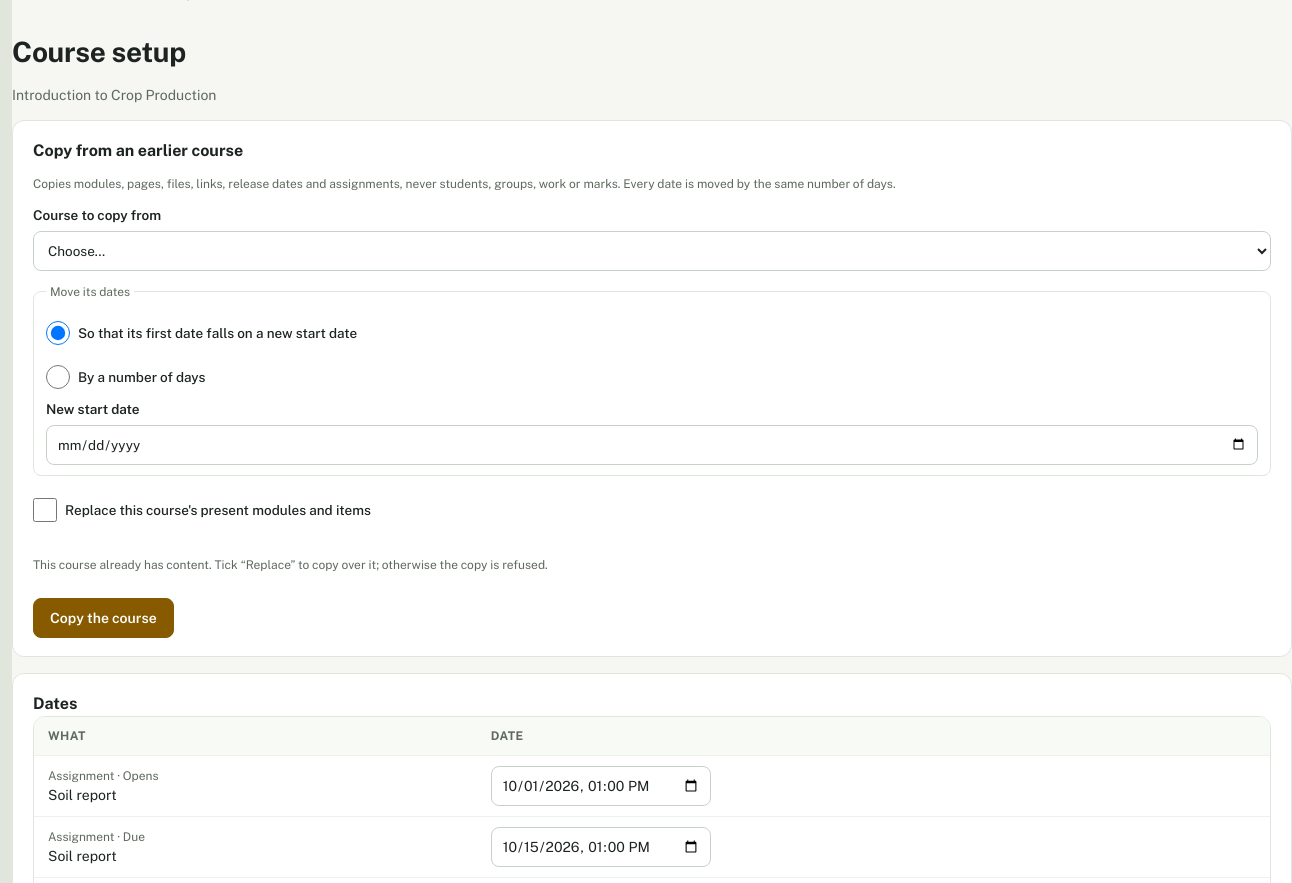
Test: course setup for teaching staff (items 2.17, 2.18 and 2.20) › lists every date, saves the changed ones together, and keeps them when the save is refused
The width and height of the screenshot is (1292, 883).
Replace the text in the field named "Due: Soil report" with "2026-10-20T09:00" at (601, 847), box [491,827,711,867]
(page scrolled)
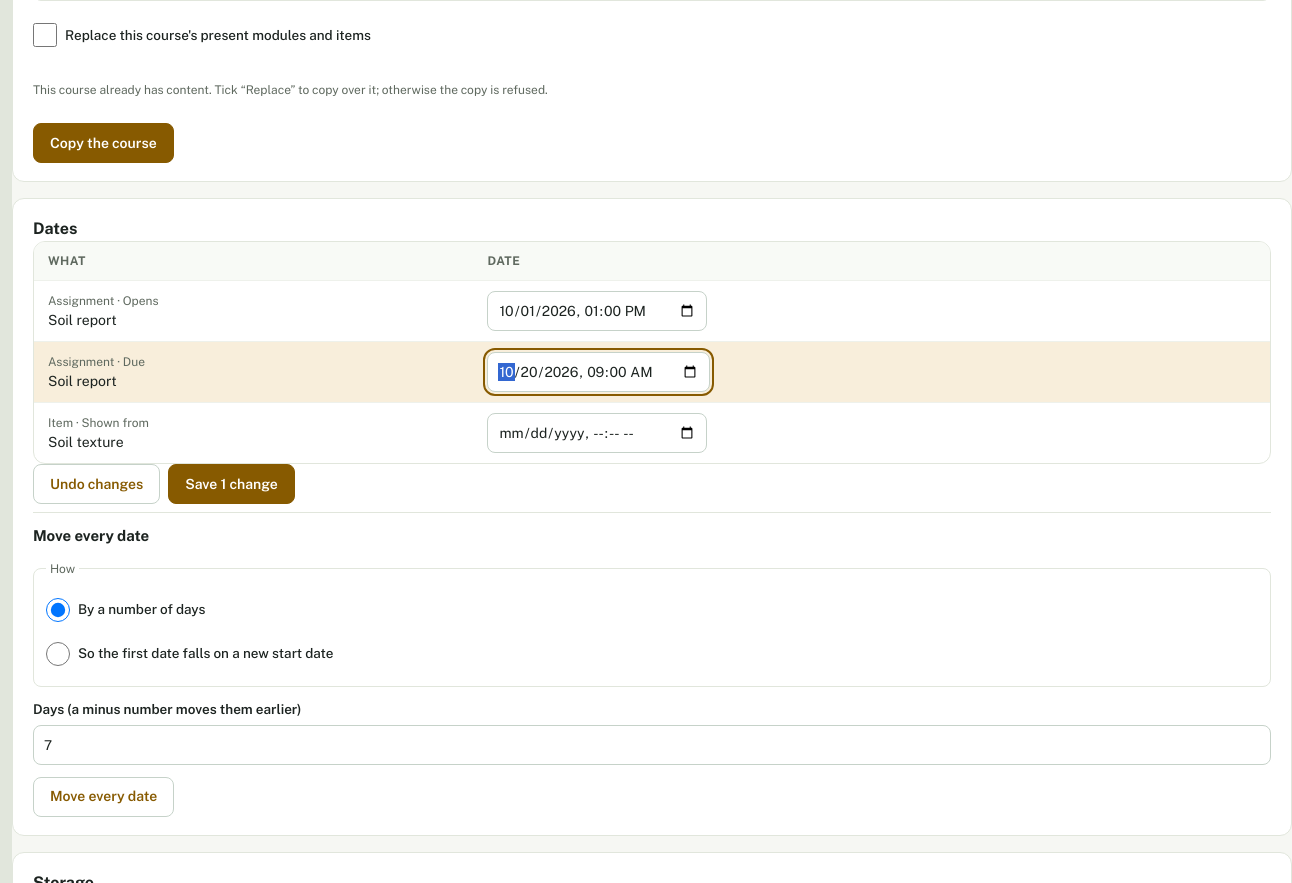
Type "2026-10-05T08:00" into the field named "Shown from: Soil texture" at (597, 433), box [487,413,707,453]
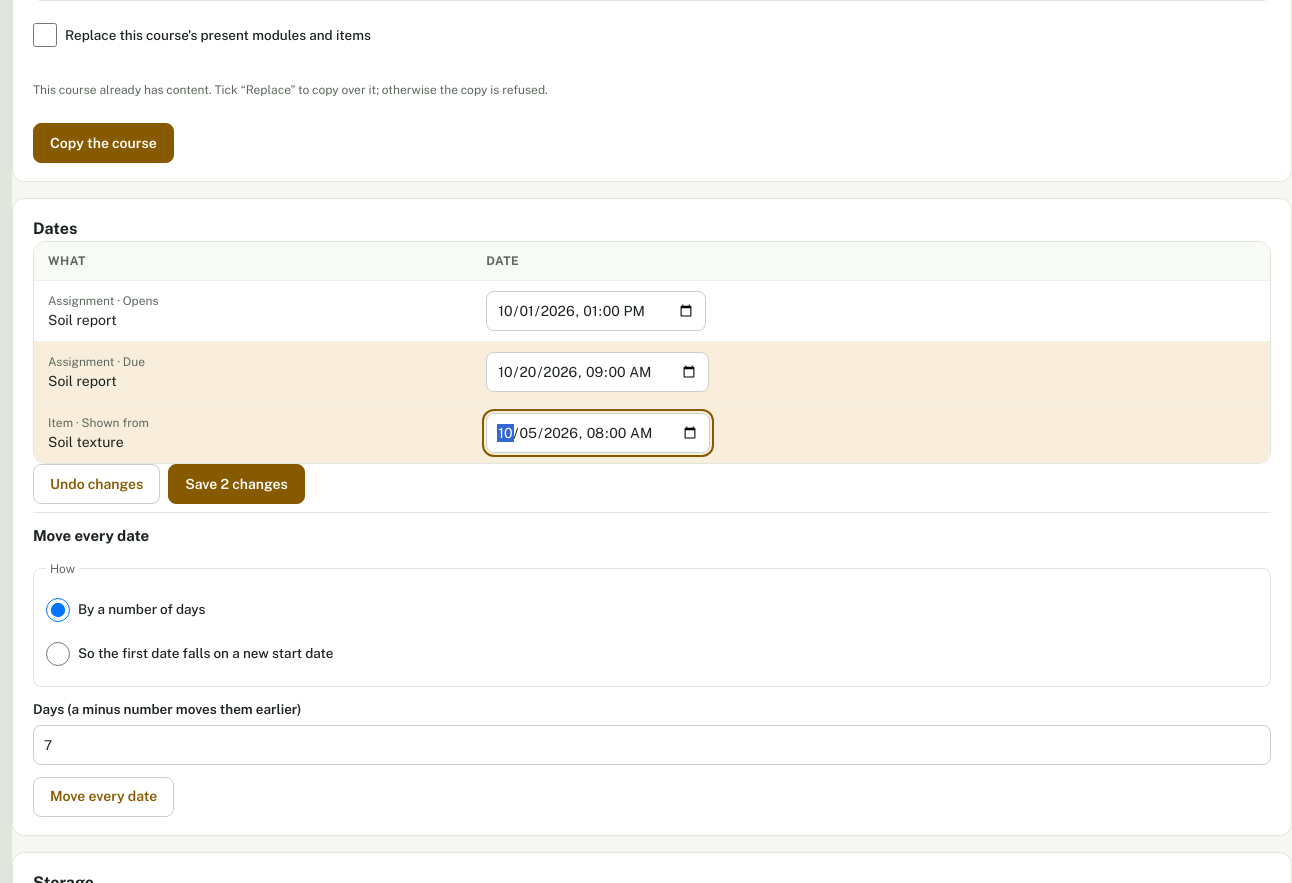
Click the button "Save 2 changes" at (236, 484), box [168,464,305,504]
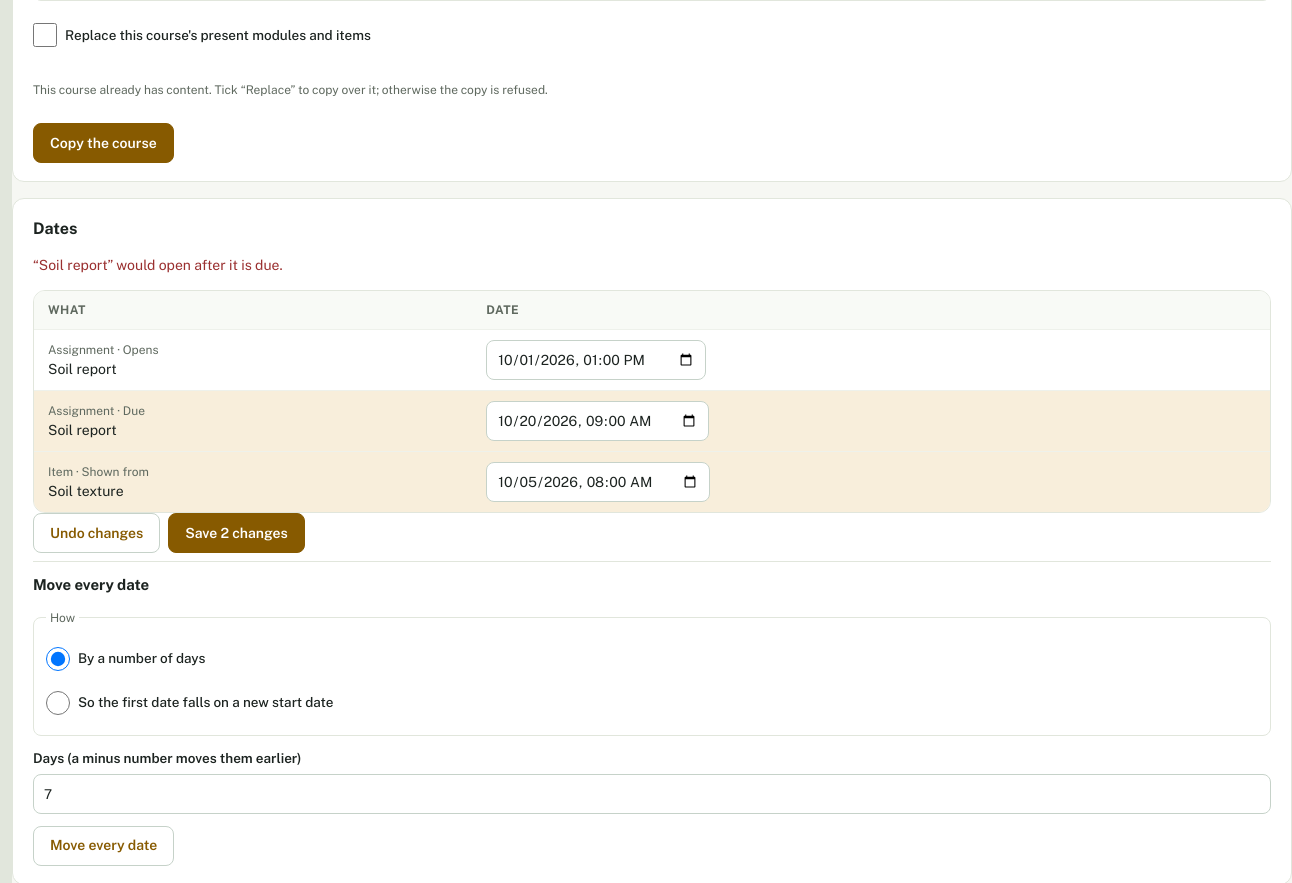
Expected: the message shows "would open after it is due", [33,257,283,273]
Click the button "Save 2 changes" at (236, 533), box [168,513,305,553]
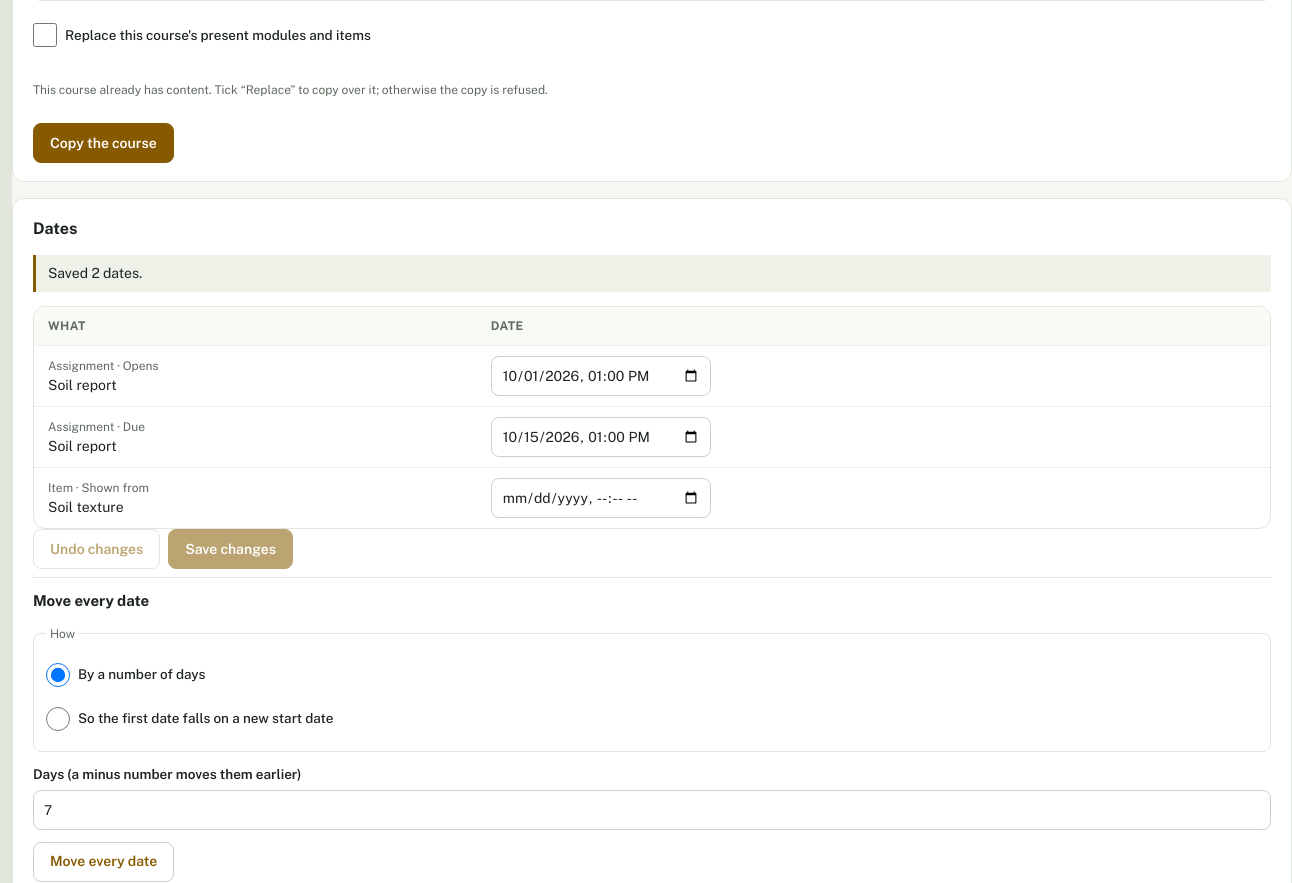
Expected: the text "Saved 2 dates." is shown, [33,255,1271,292]
